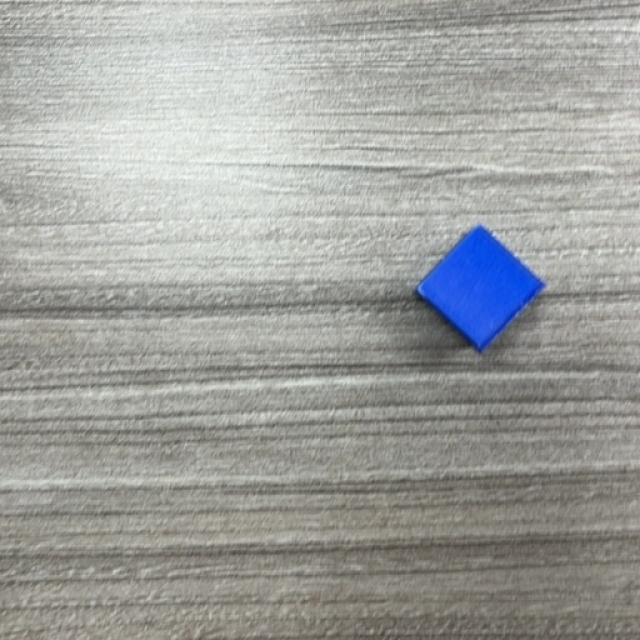Azul: (414, 226, 546, 355)
